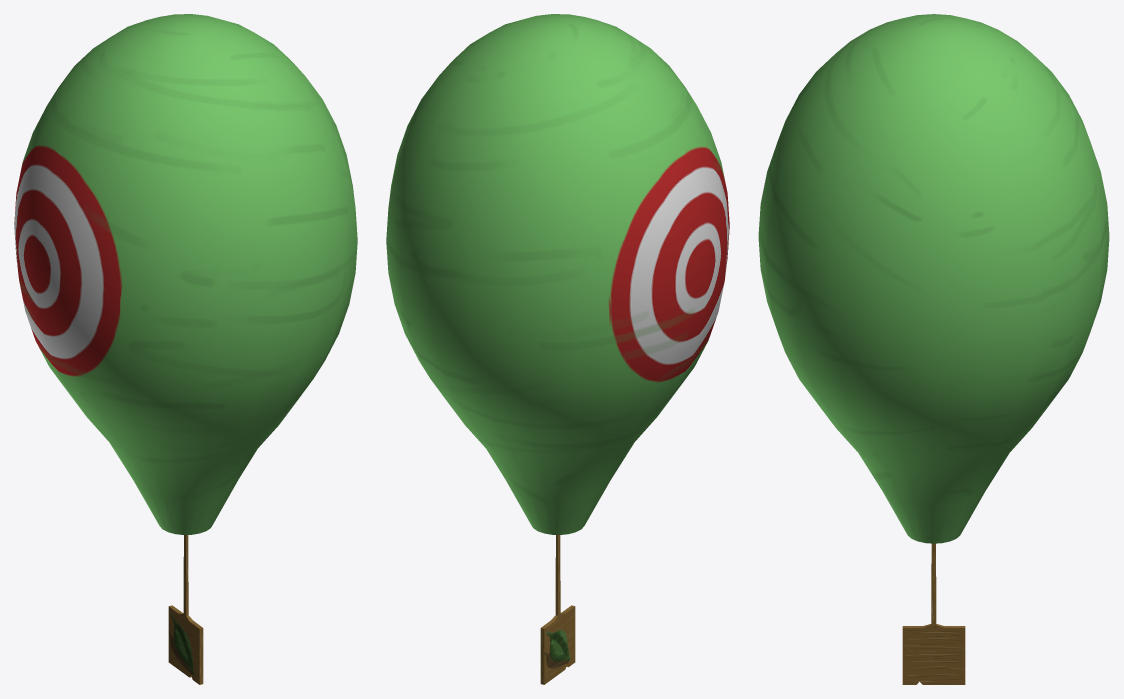
The model's file is BaloonTarget.fbx.
3 views of the same model, side by side, from view 1: azimuth 30°, elevation 25°; view 2: azimuth 150°, elevation 25°; view 3: azimuth 270°, elevation 25° (orthographic).
Parts seen in each view (by area): view 1: Baloon_baloon, pCube1; view 2: Baloon_baloon, pCube1; view 3: Baloon_baloon, pCube1.
Boxes of the visible parts, box(x1,y1,x2,y2) form: Baloon_baloon: box(14, 14, 357, 534); pCube1: box(168, 535, 203, 684); Baloon_baloon: box(386, 14, 729, 534); pCube1: box(540, 535, 575, 684); Baloon_baloon: box(758, 14, 1109, 543); pCube1: box(902, 543, 965, 684).
Size of the model in its own units: 31.24 by 64.55 by 31.24.
